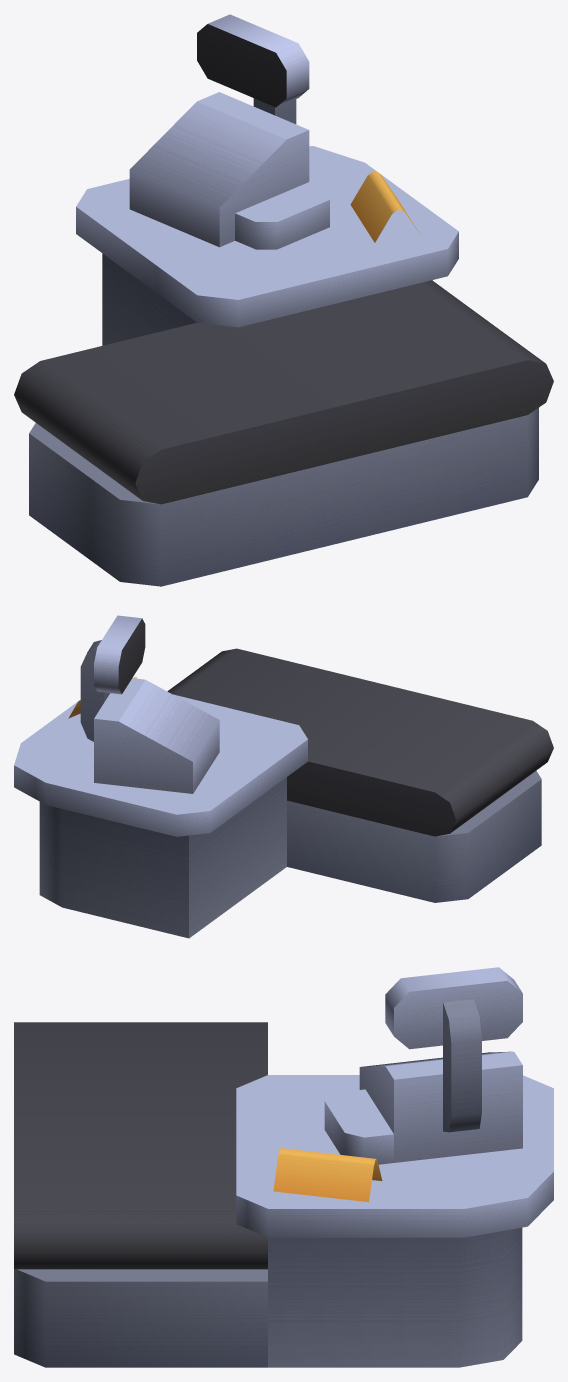
The model's file is cash-register_lev2.glb.
3 views of the same model, one above another, from view 1: azimuth 30°, elevation 25°; view 2: azimuth 150°, elevation 25°; view 3: azimuth 270°, elevation 25° (orthographic). The views are drawn at different scales.
Visible parts, largest first — view 1: cash-register_lev2; view 2: cash-register_lev2; view 3: cash-register_lev2.
Part boxes in pixels (x1,y1,x2,y2): cash-register_lev2: (14, 14, 553, 586); cash-register_lev2: (14, 615, 553, 938); cash-register_lev2: (14, 967, 553, 1367).
Bounding box in the file's own units: 3.4 × 2.38 × 3.41.
Materials: 1 (1 with a texture image).
